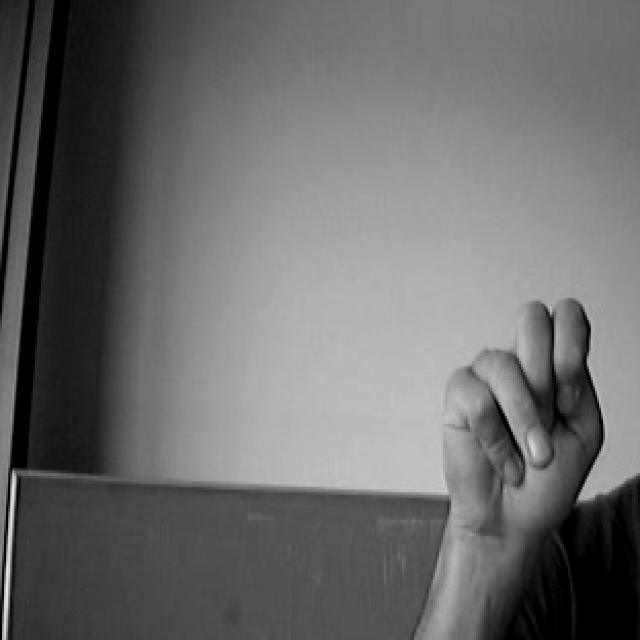N: (419, 276, 616, 551)
